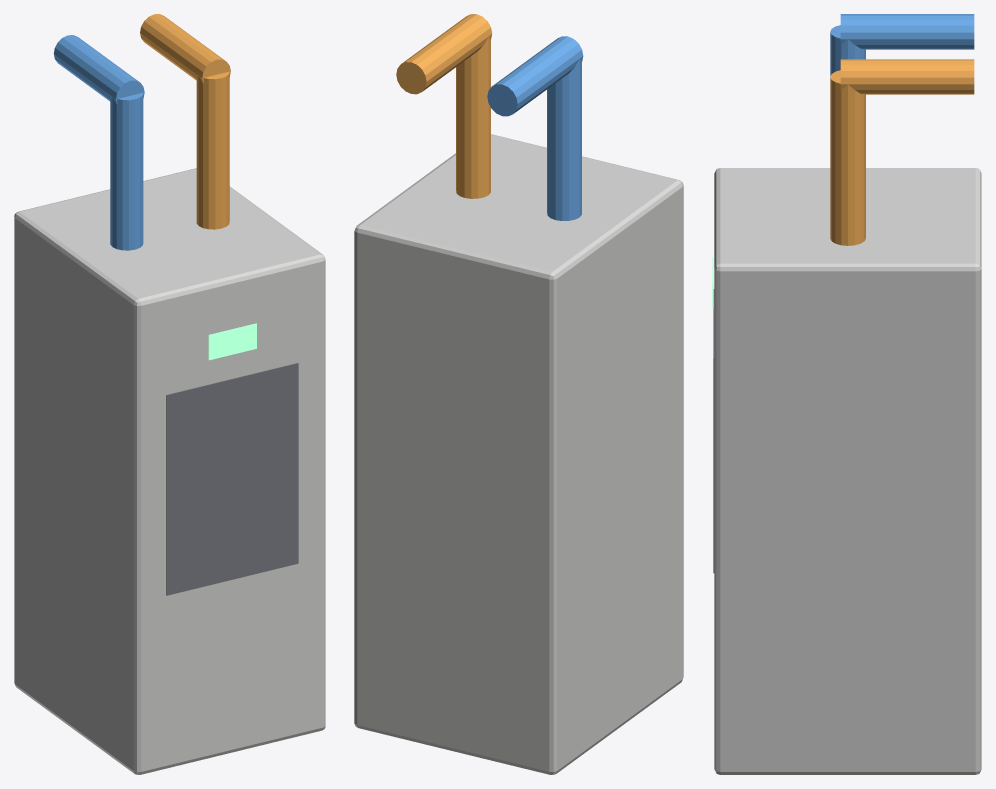
The model's file is cdu.glb.
The picture shows the model from 3 angles, left to right: view 1: azimuth 30°, elevation 25°; view 2: azimuth 150°, elevation 25°; view 3: azimuth 270°, elevation 25°; orthographic projection. The views are drawn at different scales.
Parts seen in each view (by area): view 1: body, win, pipe1, pipe0, elb0, elb1, disp; view 2: body, pipe0, pipe1, elb0, elb1; view 3: body, pipe1, elb1, elb0, pipe0, win.
Part boxes in pixels (left/top/right/bottom): body: left=14, top=168, right=325, bottom=774; win: left=166, top=363, right=298, bottom=595; pipe1: left=196, top=71, right=229, bottom=229; pipe0: left=110, top=93, right=143, bottom=250; elb0: left=53, top=35, right=144, bottom=104; elb1: left=140, top=14, right=230, bottom=83; disp: left=208, top=323, right=256, bottom=360; body: left=354, top=134, right=683, bottom=774; pipe0: left=547, top=59, right=581, bottom=220; pipe1: left=456, top=36, right=490, bottom=198; elb0: left=487, top=36, right=583, bottom=116; elb1: left=396, top=14, right=492, bottom=94; body: left=714, top=168, right=981, bottom=774; pipe1: left=830, top=70, right=865, bottom=245; elb1: left=840, top=59, right=974, bottom=94; elb0: left=840, top=14, right=974, bottom=49; pipe0: left=830, top=25, right=865, bottom=75; win: left=713, top=289, right=714, bottom=573.
Bounding box in the file's own units: 0.8 × 2.56 × 0.907.
